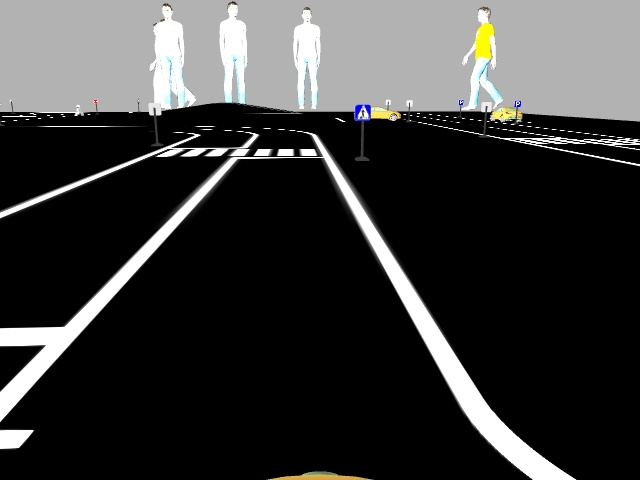Crosswalk: (354, 105, 371, 121)
Parking: (514, 98, 521, 107)
